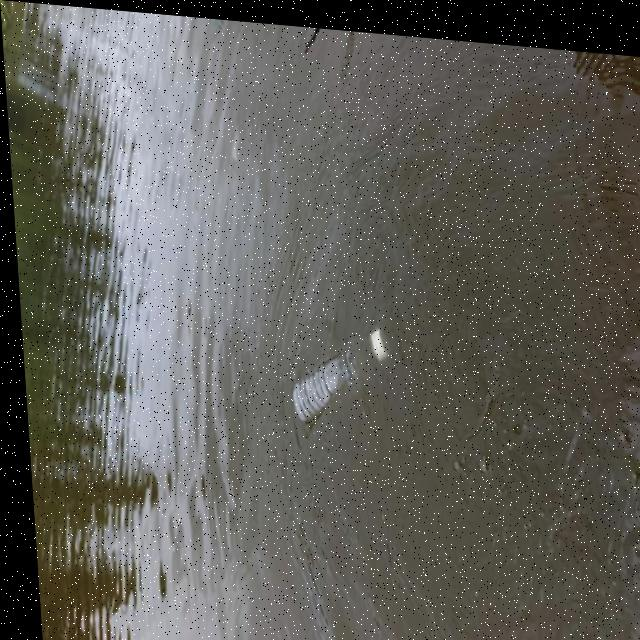waterbottle: (255, 298, 393, 435)
